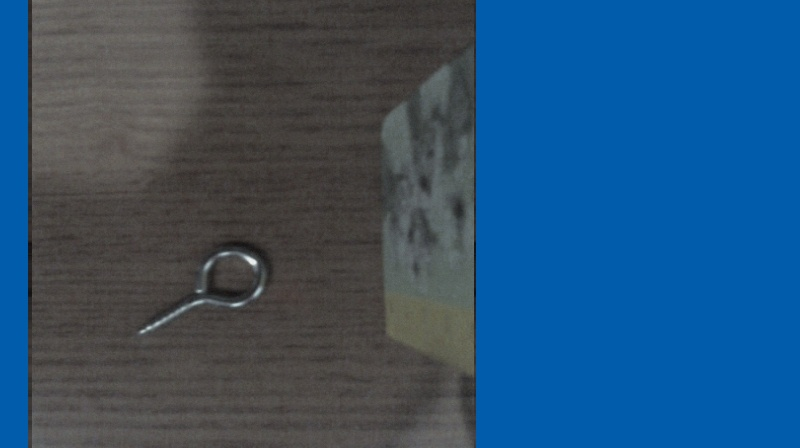O001: (130, 239, 274, 343)
